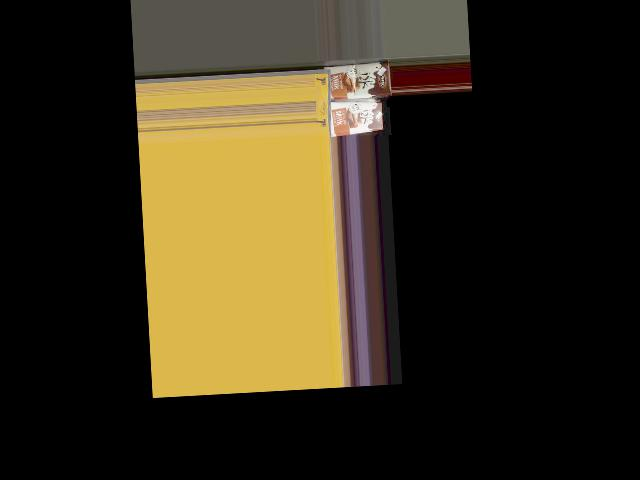chocolate: (322, 99, 385, 140)
